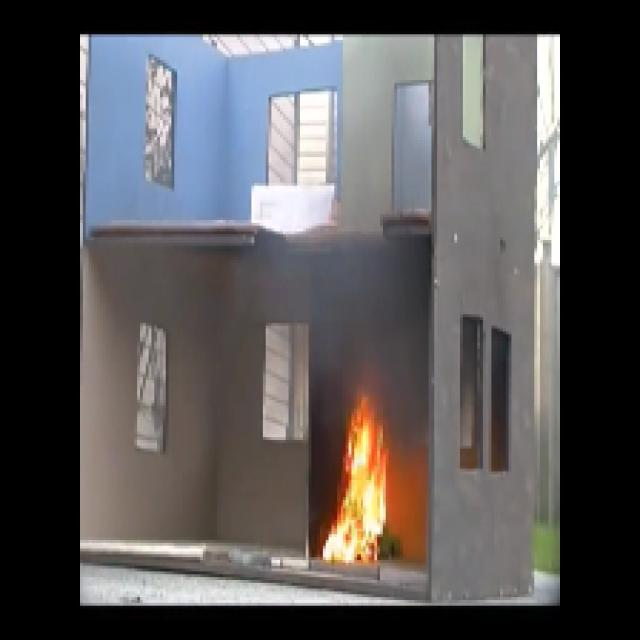fire: (332, 411, 392, 566)
smoke: (320, 251, 416, 365)
